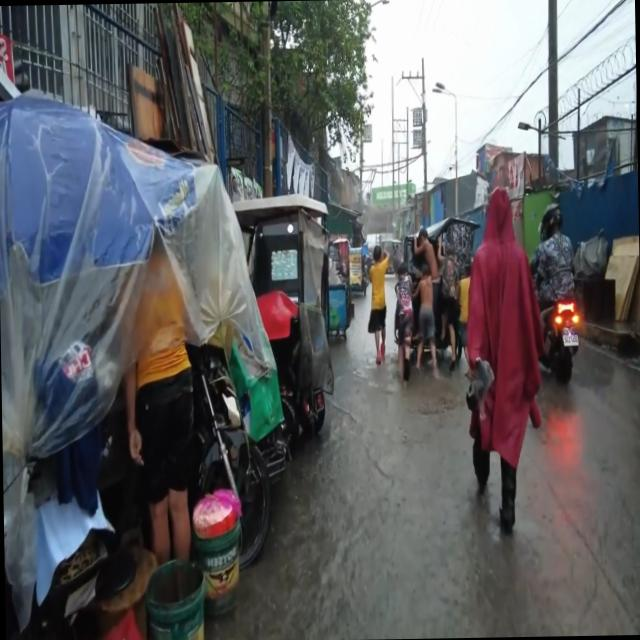full: (540, 204, 562, 237)
